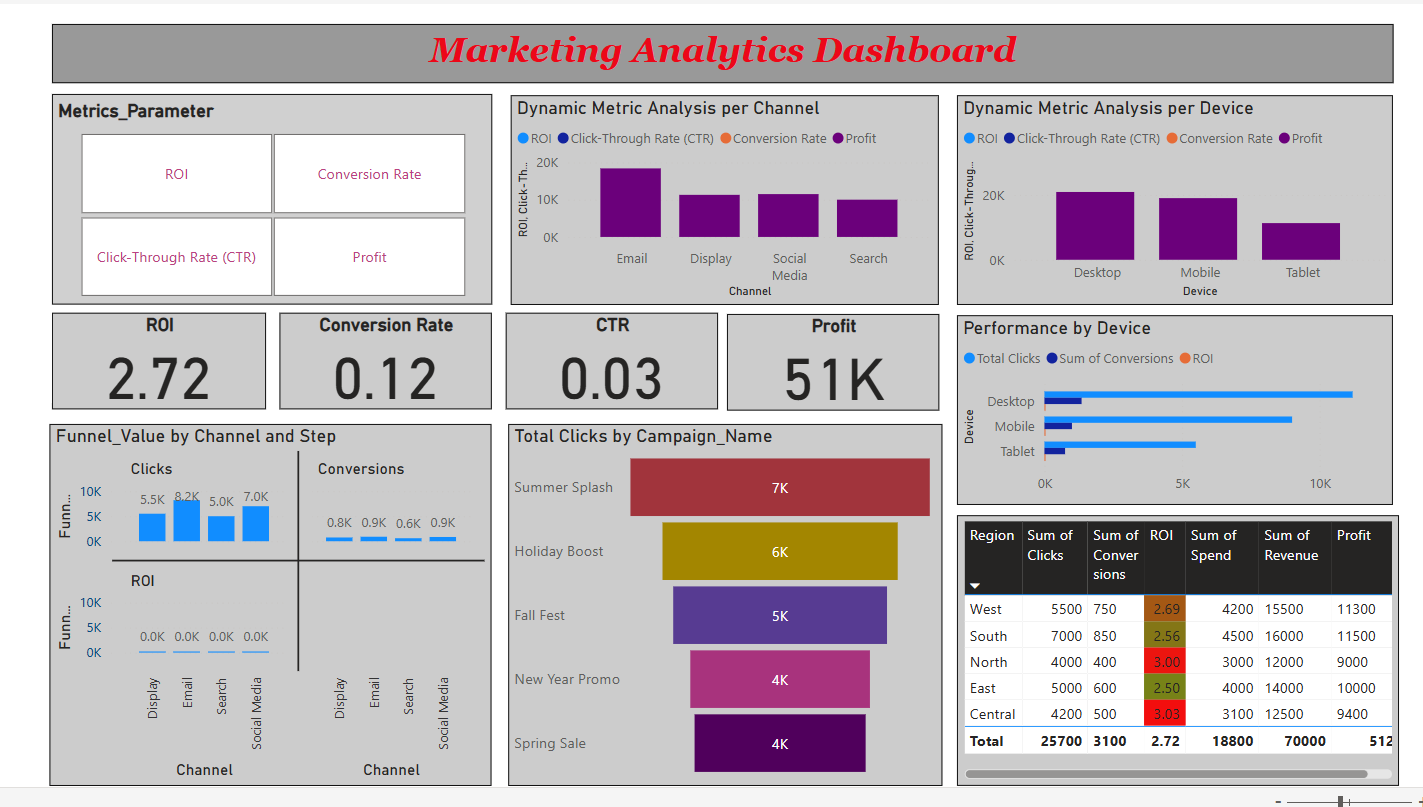

What the dashboard file says about the page in this screenshot:
{"tool":"powerbi","page":{"name":"Page 1","canvas":[1280,720],"ordinal":0},"visuals":[{"type":"slicer","title":"Metrics_Parameter","fields":{"Values":["Parameter.Parameter"]},"box":[22.5,82.9,404.7,193.9],"z":0},{"type":"columnChart","title":"Dynamic Metric Analysis per Channel","fields":{"Y":["Campaign_Performance.ROI","Campaign_Performance.Click-Through Rate (CTR)","Campaign_Performance.Conversion Rate","Campaign_Performance.Profit"],"Category":["Campaigns.Channel"]},"box":[445.4,84.3,393.4,192.5],"z":1000},{"type":"textbox","box":[22.5,18.3,1233.6,54.8],"z":2000},{"type":"columnChart","title":"Dynamic Metric Analysis per Device","fields":{"Y":["Campaign_Performance.ROI","Campaign_Performance.Click-Through Rate (CTR)","Campaign_Performance.Conversion Rate","Campaign_Performance.Profit"],"Category":["Campaigns.Device"]},"box":[855.7,84.3,400.4,192.5],"z":3000},{"type":"card","title":"Conversion Rate","fields":{"Values":["Campaign_Performance.Conversion Rate"]},"box":[231.8,283.8,195.3,88.5],"z":4000},{"type":"card","title":"ROI","fields":{"Values":["Campaign_Performance.ROI"]},"box":[22.5,283.8,196.7,88.5],"z":5000},{"type":"card","title":"CTR","fields":{"Values":["Campaign_Performance.Click-Through Rate (CTR)"]},"box":[439.8,283.8,195.3,88.5],"z":6000},{"type":"card","title":"Profit","fields":{"Values":["Campaign_Performance.Profit"]},"box":[643.5,285.2,195.3,88.5],"z":7000},{"type":"funnel","fields":{"Category":["Campaigns.Campaign_Name"],"Y":["Campaign_Performance.Total Clicks"]},"box":[442.6,386.4,399,333],"z":8000},{"type":"clusteredColumnChart","fields":{"Y":["Campaign_Performance.Funnel_Value"],"Rows":["Funnel_Steps.Step"],"Category":["Campaigns.Channel"]},"box":[21.1,386.4,406.1,333],"z":9000},{"type":"clusteredBarChart","title":"Performance by Device","fields":{"Y":["Campaign_Performance.Total Clicks","Sum(Campaign_Performance.Conversions)","Campaign_Performance.ROI"],"Category":["Campaigns.Device"]},"box":[855.7,286.6,400.4,174.2],"z":10000},{"type":"tableEx","title":"Performance by Device","fields":{"Values":["Campaigns.Region","Sum(Campaign_Performance.Clicks)","Sum(Campaign_Performance.Conversions)","Campaign_Performance.ROI","Sum(Campaign_Performance.Spend)","Sum(Campaign_Performance.Revenue)","Campaign_Performance.Profit"]},"box":[855.7,470.7,406.1,248.7],"z":11000}]}

Visuals, with their boxes in screenshot pixels (x1, y1, x2, y2), scaled from the page's 1280x720 canvas onto the 1423x807 screenshot:
"Metrics_Parameter" slicer: <box>25,93,475,310</box>
"Dynamic Metric Analysis per Channel" columnChart: <box>495,94,933,310</box>
textbox: <box>25,21,1396,82</box>
"Dynamic Metric Analysis per Device" columnChart: <box>951,94,1396,310</box>
"Conversion Rate" card: <box>258,318,475,417</box>
"ROI" card: <box>25,318,244,417</box>
"CTR" card: <box>489,318,706,417</box>
"Profit" card: <box>715,320,933,419</box>
funnel - Campaigns.Campaign_Name x Campaign_Performance.Total Clicks: <box>492,433,936,806</box>
clusteredColumnChart - Campaign_Performance.Funnel_Value x Funnel_Steps.Step: <box>23,433,475,806</box>
"Performance by Device" clusteredBarChart: <box>951,321,1396,516</box>
"Performance by Device" tableEx: <box>951,528,1403,806</box>
